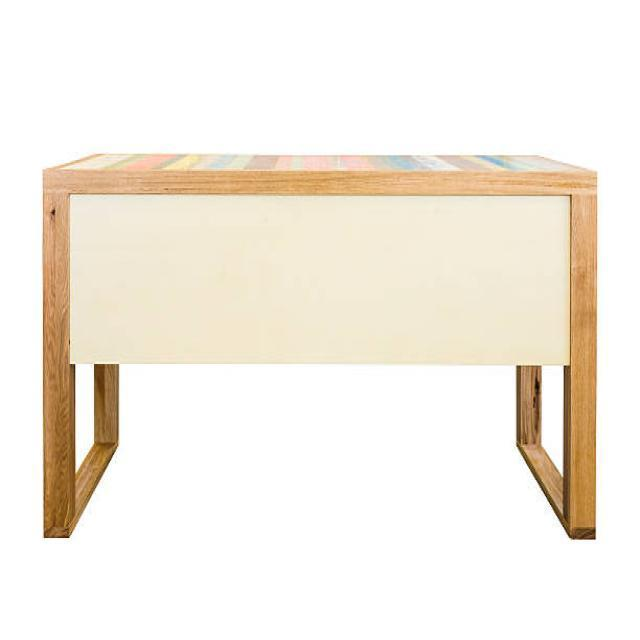table: (41, 150, 598, 542)
